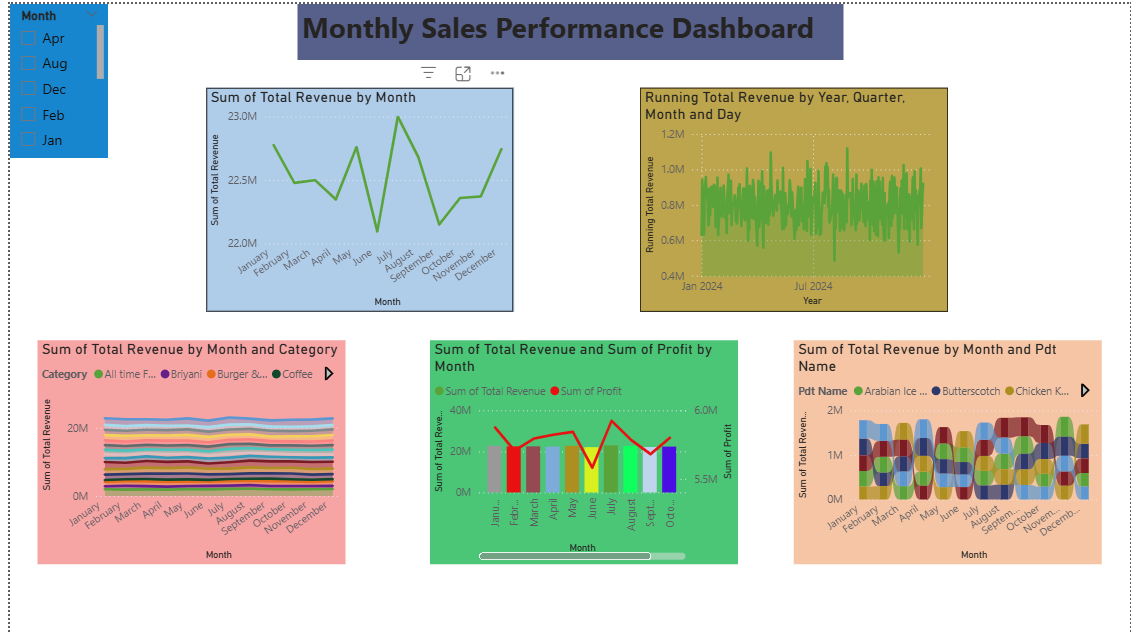

This screenshot's page, from the dashboard's own definition file:
{"tool":"powerbi","page":{"name":"parry,s corner(6 to 10)","canvas":[1280,720],"ordinal":1},"visuals":[{"type":"lineChart","fields":{"Category":["Overall sheet.Date.Variation.Date Hierarchy.Month"],"Y":["Sum(Overall sheet.Total Revenue)"]},"box":[224,96,352,256],"z":0},{"type":"areaChart","fields":{"Category":["Overall sheet.Date.Variation.Date Hierarchy.Year","Overall sheet.Date.Variation.Date Hierarchy.Quarter","Overall sheet.Date.Variation.Date Hierarchy.Month","Overall sheet.Date.Variation.Date Hierarchy.Day"],"Y":["Category.Running Total Revenue"]},"box":[720,96,352,256],"z":1000},{"type":"stackedAreaChart","fields":{"Category":["Overall sheet.Date.Variation.Date Hierarchy.Month"],"Y":["Sum(Overall sheet.Total Revenue)"],"Series":["Overall sheet.Category"]},"box":[32,384,352,256],"z":2000},{"type":"slicer","fields":{"Values":["Overall sheet.Month"]},"box":[0,0,112,176],"z":3000},{"type":"lineStackedColumnComboChart","fields":{"Category":["Overall sheet.Date.Variation.Date Hierarchy.Month"],"Y":["Sum(Overall sheet.Total Revenue)"],"Y2":["Sum(Overall sheet.Profit)"]},"box":[480,384,352,256],"z":4000},{"type":"ribbonChart","fields":{"Category":["Overall sheet.Date.Variation.Date Hierarchy.Month"],"Series":["Overall sheet.Pdt Name"],"Y":["Sum(Overall sheet.Total Revenue)"]},"box":[896,384,352,256],"z":5000},{"type":"textbox","box":[328,0,624,64],"z":6000}]}

Visuals, with their boxes in screenshot pixels (x1, y1, x2, y2), scaled from the page's 1280x720 canvas onto the 1131x632 screenshot:
lineChart - Overall sheet.Date.Variation.Date Hierarchy.Month x Sum(Overall sheet.Total Revenue): BBox(198, 84, 509, 309)
areaChart - Overall sheet.Date.Variation.Date Hierarchy.Year x Overall sheet.Date.Variation.Date Hierarchy.Quarter: BBox(636, 84, 947, 309)
stackedAreaChart - Overall sheet.Date.Variation.Date Hierarchy.Month x Sum(Overall sheet.Total Revenue): BBox(28, 337, 339, 562)
slicer - Overall sheet.Month: BBox(0, 0, 99, 154)
lineStackedColumnComboChart - Overall sheet.Date.Variation.Date Hierarchy.Month x Sum(Overall sheet.Total Revenue): BBox(424, 337, 735, 562)
ribbonChart - Overall sheet.Date.Variation.Date Hierarchy.Month x Overall sheet.Pdt Name: BBox(792, 337, 1103, 562)
textbox: BBox(290, 0, 841, 56)
